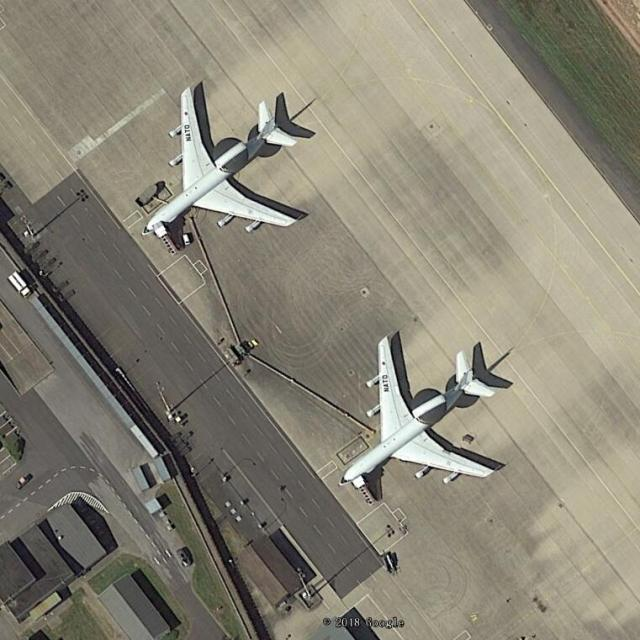fighter jet: (139, 73, 311, 247), (341, 324, 504, 493)
